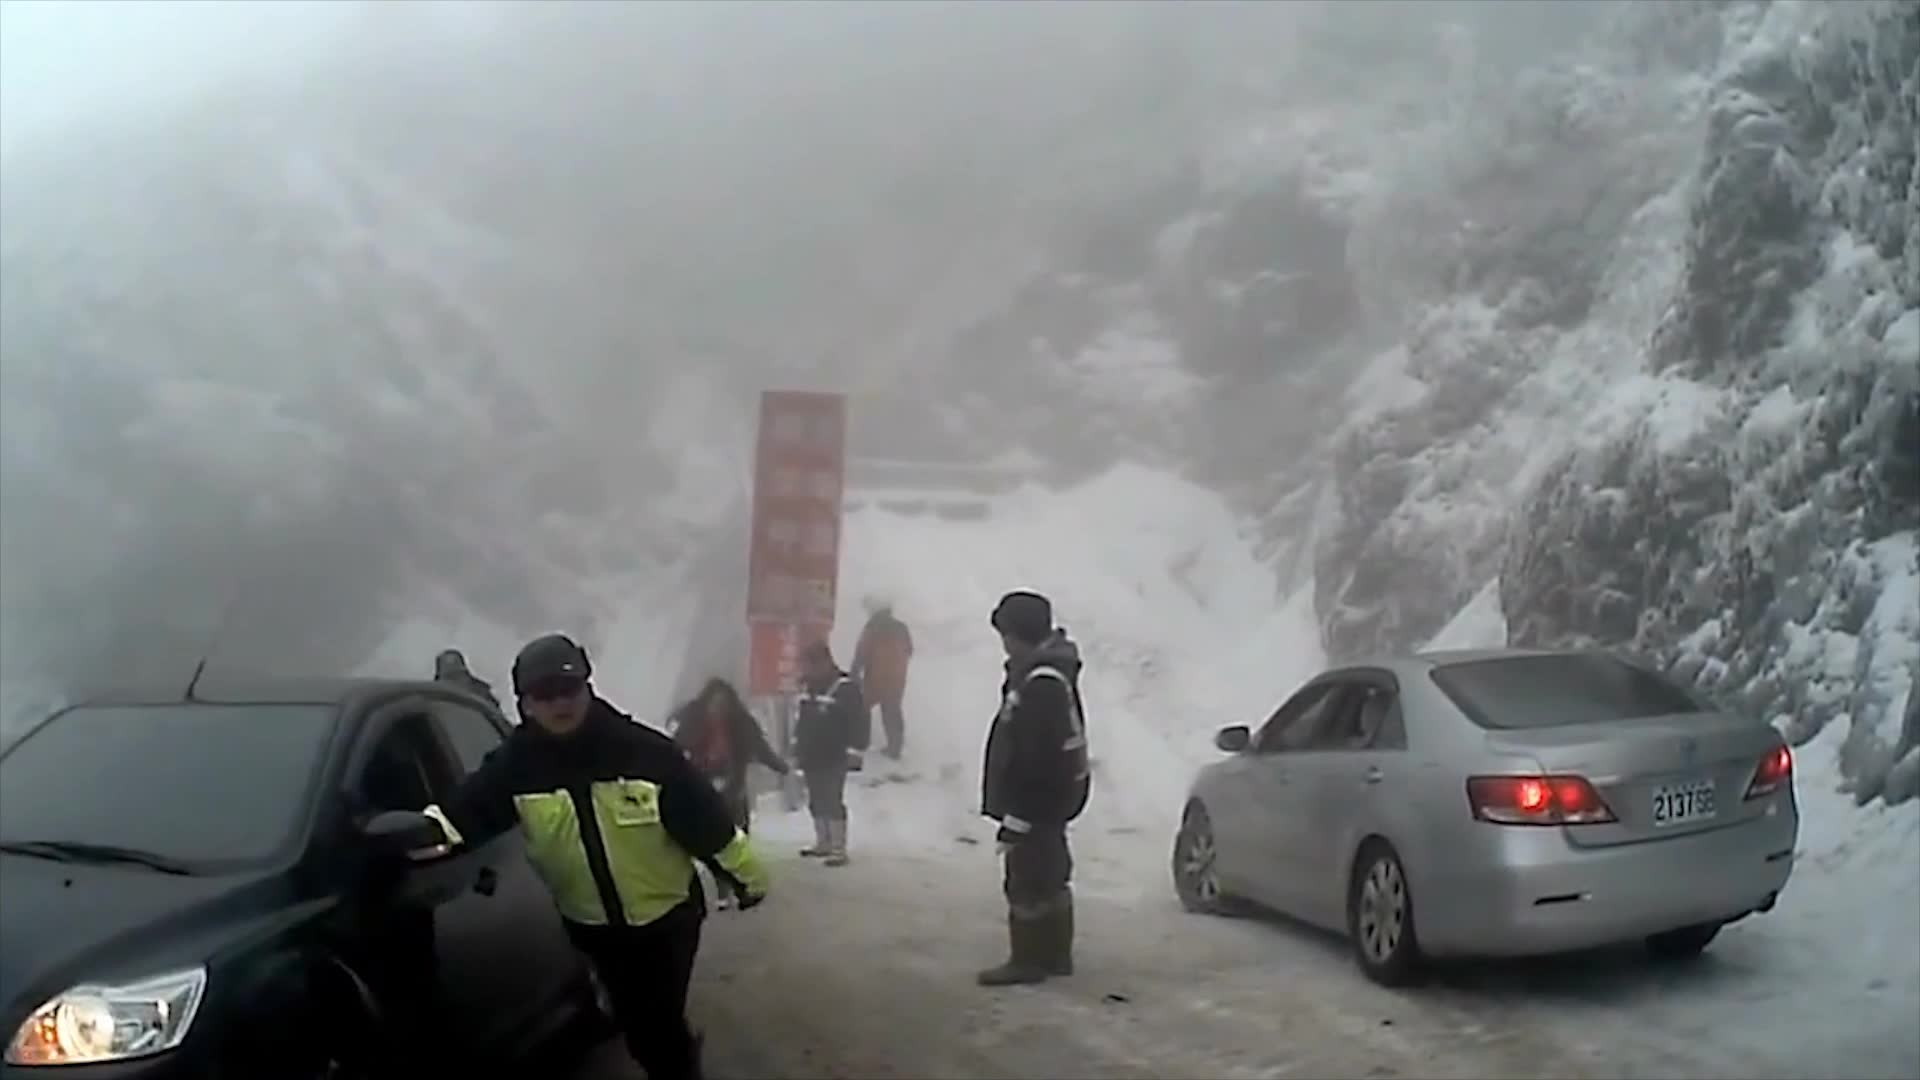pedestrian: (385, 638, 764, 1080), (958, 585, 1089, 984), (666, 671, 788, 913), (791, 640, 865, 864), (840, 583, 912, 759)
vehicle: (0, 673, 639, 1080), (1161, 639, 1797, 983)
